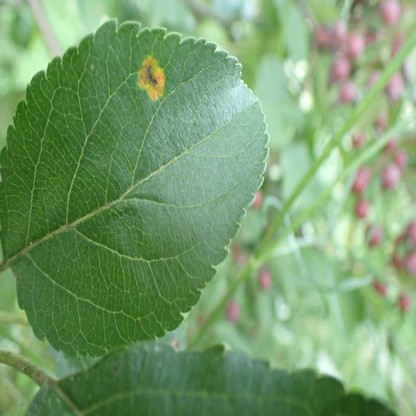rust: (138, 56, 166, 101)
